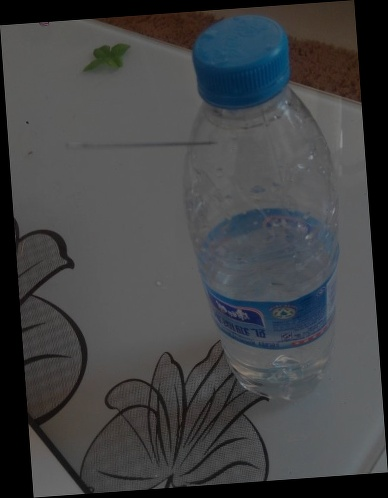bottle: (177, 77, 351, 498)
